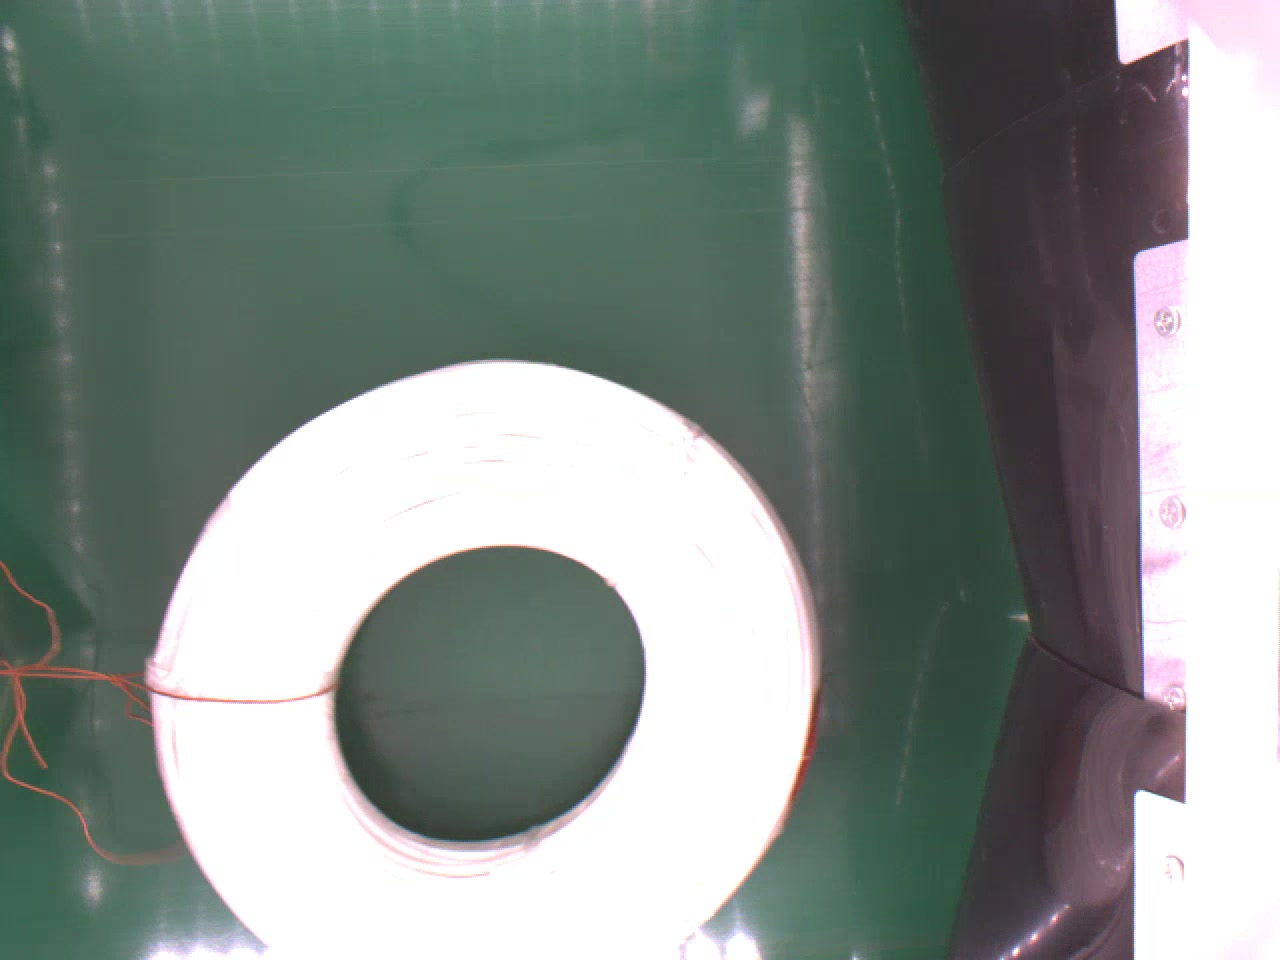white: (145, 352, 818, 960)
